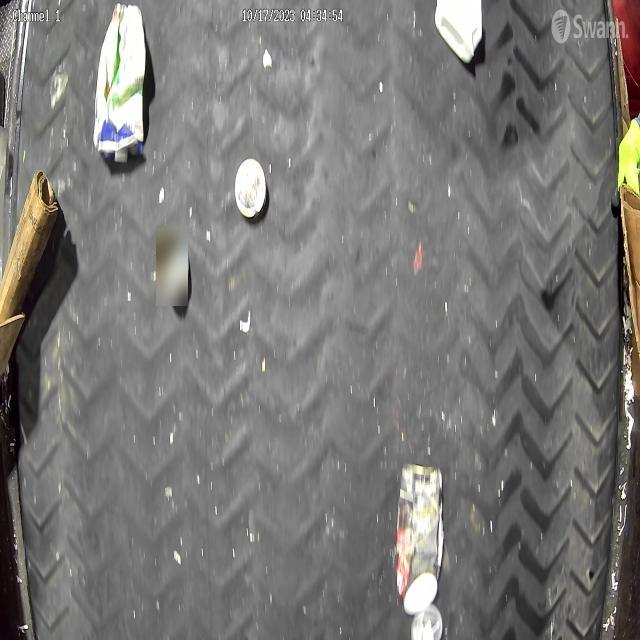non_white_jug: (92, 2, 146, 163)
